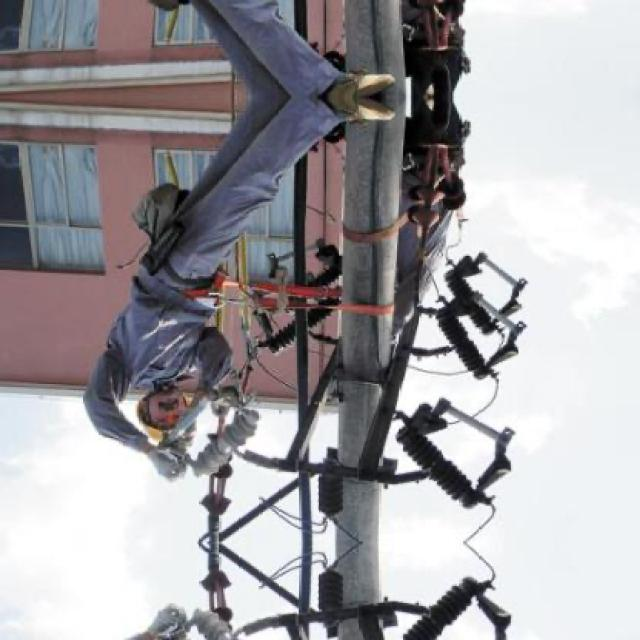con casco: (105, 336, 243, 498)
